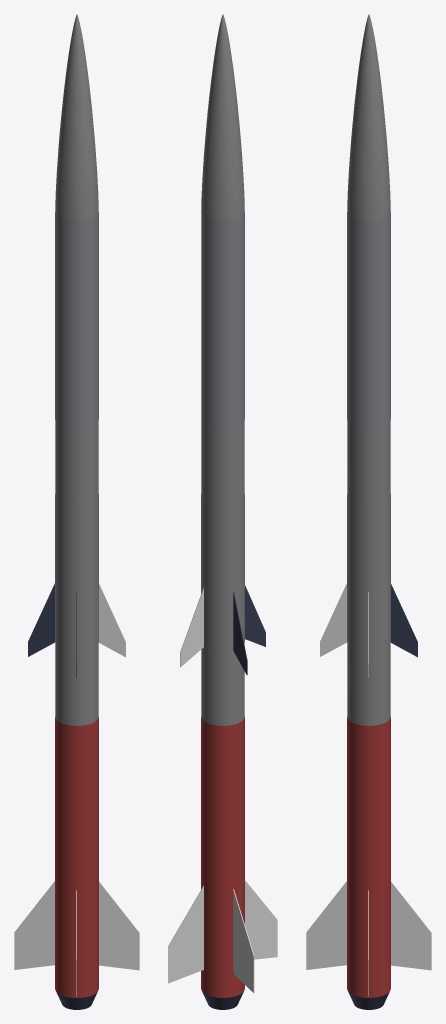
File: gg-kademe.draco.glb
3 views of the same model, side by side, from view 1: azimuth 90°, elevation 25°; view 2: azimuth 210°, elevation 25°; view 3: azimuth 270°, elevation 25° (orthographic).
Visible parts, largest first — view 1: Material_1, Material_5, Material_3, Material_6, Material_2, Material_4, Material_7, Material_13, Material_8, Material_10, Material_27; view 2: Material_1, Material_5, Material_3, Material_6, Material_4, Material_2, Material_14, Material_12, Material_13, Material_11, Material_9, Material_10 (+1 smaller); view 3: Material_1, Material_5, Material_3, Material_6, Material_2, Material_4, Material_13, Material_7, Material_10, Material_8, Material_27.
Boxes of the visible parts, left/top/right/bottom form: Material_1: left=55, top=717, right=98, bottom=997; Material_5: left=55, top=212, right=98, bottom=428; Material_3: left=55, top=494, right=98, bottom=651; Material_6: left=55, top=14, right=98, bottom=220; Material_2: left=55, top=644, right=98, bottom=725; Material_4: left=55, top=421, right=98, bottom=503; Material_7: left=99, top=881, right=139, bottom=970; Material_13: left=14, top=881, right=54, bottom=969; Material_8: left=99, top=584, right=125, bottom=657; Material_10: left=28, top=583, right=54, bottom=656; Material_27: left=56, top=992, right=97, bottom=1009; Material_1: left=201, top=717, right=244, bottom=997; Material_5: left=201, top=212, right=244, bottom=428; Material_3: left=201, top=494, right=244, bottom=651; Material_6: left=201, top=14, right=244, bottom=220; Material_4: left=201, top=421, right=244, bottom=503; Material_2: left=201, top=644, right=244, bottom=725; Material_14: left=168, top=885, right=203, bottom=983; Material_12: left=245, top=880, right=277, bottom=959; Material_13: left=233, top=889, right=254, bottom=992; Material_11: left=180, top=587, right=203, bottom=667; Material_9: left=245, top=585, right=265, bottom=646; Material_10: left=233, top=591, right=247, bottom=675; Material_1: left=347, top=717, right=390, bottom=997; Material_5: left=347, top=212, right=390, bottom=428; Material_3: left=347, top=494, right=390, bottom=651; Material_6: left=347, top=14, right=390, bottom=220; Material_2: left=347, top=644, right=390, bottom=725; Material_4: left=347, top=421, right=390, bottom=503; Material_13: left=391, top=881, right=431, bottom=970; Material_7: left=306, top=881, right=346, bottom=969; Material_10: left=391, top=584, right=417, bottom=657; Material_8: left=320, top=583, right=346, bottom=656; Material_27: left=348, top=992, right=389, bottom=1009.
Bounding box in the file's own units: 460 × 4000 × 460.
